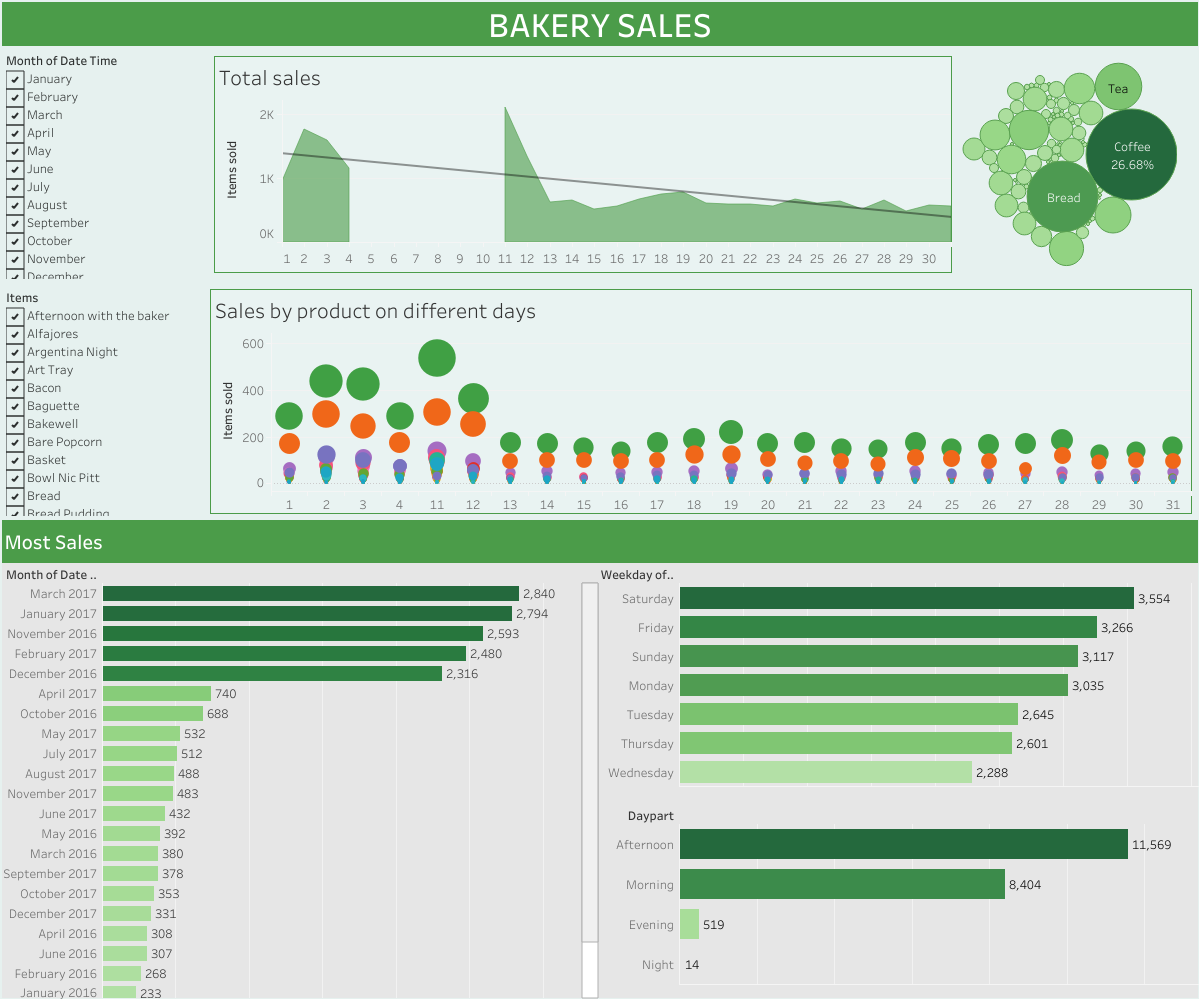

Layout of this report page (visuals, bound fields, positions):
{"tool":"tableau","page":{"name":"Dashboard 1","canvas":[1200,1000],"ordinal":0},"visuals":[{"type":"title","box":[2,2,1196,44]},{"type":"filter","title":"Sheet 6","param":"[federated.0pp96ut0xuk29p1ea752l009xm9j].[mn:DateTime:ok]","box":[2,46,201.6,237]},{"type":"worksheet","title":"Sheet 6","mark":"Area","rows":["Bakery_DD77A35930C44E4E82F0321B62BF8B60"],"cols":["DateTime"],"box":[203.6,46,758.4,237]},{"type":"worksheet","title":"Sheet 1","mark":"Circle","box":[962,46,236,237]},{"type":"filter","title":"Sheet 7","param":"[federated.0pp96ut0xuk29p1ea752l009xm9j].[none:Items:nk]","box":[2,283,201.6,237.2]},{"type":"worksheet","title":"Sheet 7","mark":"Shape","rows":["Bakery_DD77A35930C44E4E82F0321B62BF8B60"],"cols":["DateTime"],"box":[203.6,283,994.4,237.2]},{"type":"text","box":[2,520.2,1196,42.5]},{"type":"worksheet","title":"Sheet 2","mark":"Bar","rows":["DateTime"],"cols":["Bakery_DD77A35930C44E4E82F0321B62BF8B60"],"box":[2,562.7,597.4,435.3]},{"type":"worksheet","title":"Sheet 4","mark":"Bar","rows":["DateTime"],"cols":["Bakery_DD77A35930C44E4E82F0321B62BF8B60"],"box":[599.4,562.7,598.6,240.9]},{"type":"worksheet","title":"Sheet 3","mark":"Automatic","rows":["Daypart"],"cols":["Bakery_DD77A35930C44E4E82F0321B62BF8B60"],"box":[599.4,803.6,598.6,194.4]}]}

Visuals, with their boxes in screenshot pixels (x1, y1, x2, y2), scaled from the page's 1200x1000 canvas onto the 1199x999 screenshot:
title: crop(2, 2, 1197, 46)
"Sheet 6" filter: crop(2, 46, 203, 283)
"Sheet 6" worksheet (Area marks): crop(203, 46, 961, 283)
"Sheet 1" worksheet (Circle marks): crop(961, 46, 1197, 283)
"Sheet 7" filter: crop(2, 283, 203, 520)
"Sheet 7" worksheet (Shape marks): crop(203, 283, 1197, 520)
text: crop(2, 520, 1197, 562)
"Sheet 2" worksheet (Bar marks): crop(2, 562, 599, 997)
"Sheet 4" worksheet (Bar marks): crop(599, 562, 1197, 803)
"Sheet 3" worksheet: crop(599, 803, 1197, 997)
